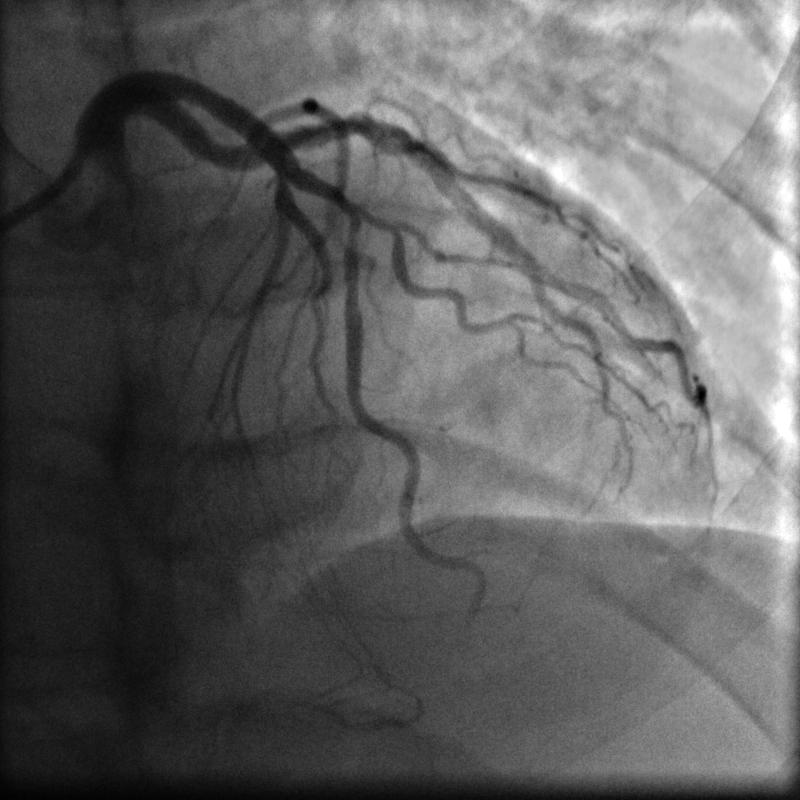Stenosis: (339, 209, 366, 272)
